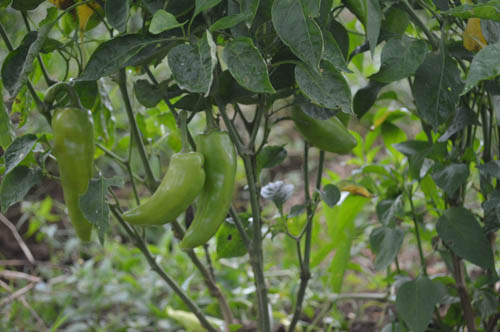ChiliPepper: (123, 155, 203, 230), (185, 134, 234, 253), (53, 108, 96, 242)
